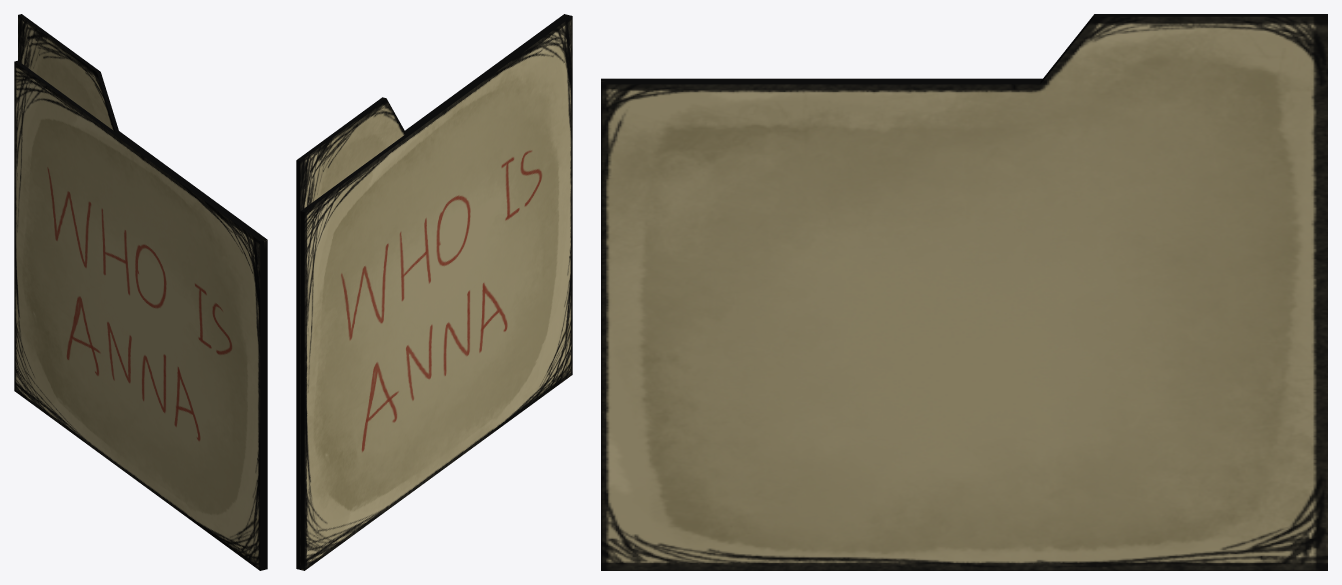
Rendered from folder_anna.fbx.
The picture shows the model from 3 angles, left to right: view 1: azimuth 30°, elevation 25°; view 2: azimuth 150°, elevation 25°; view 3: azimuth 270°, elevation 25°; orthographic projection. The views are drawn at different scales.
Parts seen in each view (by area): view 1: folder_front.016, folder_anna; view 2: folder_front.016, folder_anna; view 3: folder_anna, folder_front.016.
Boxes of the visible parts, left/top/right/bottom form: folder_front.016: left=14, top=60, right=263, bottom=570; folder_anna: left=18, top=14, right=267, bottom=569; folder_front.016: left=300, top=15, right=572, bottom=570; folder_anna: left=296, top=14, right=567, bottom=569; folder_anna: left=601, top=14, right=1327, bottom=570; folder_front.016: left=601, top=78, right=1042, bottom=81.
Bounding box in the file's own units: 1.13 × 53.74 × 63.85.
Materials: 2 (2 with a texture image).
